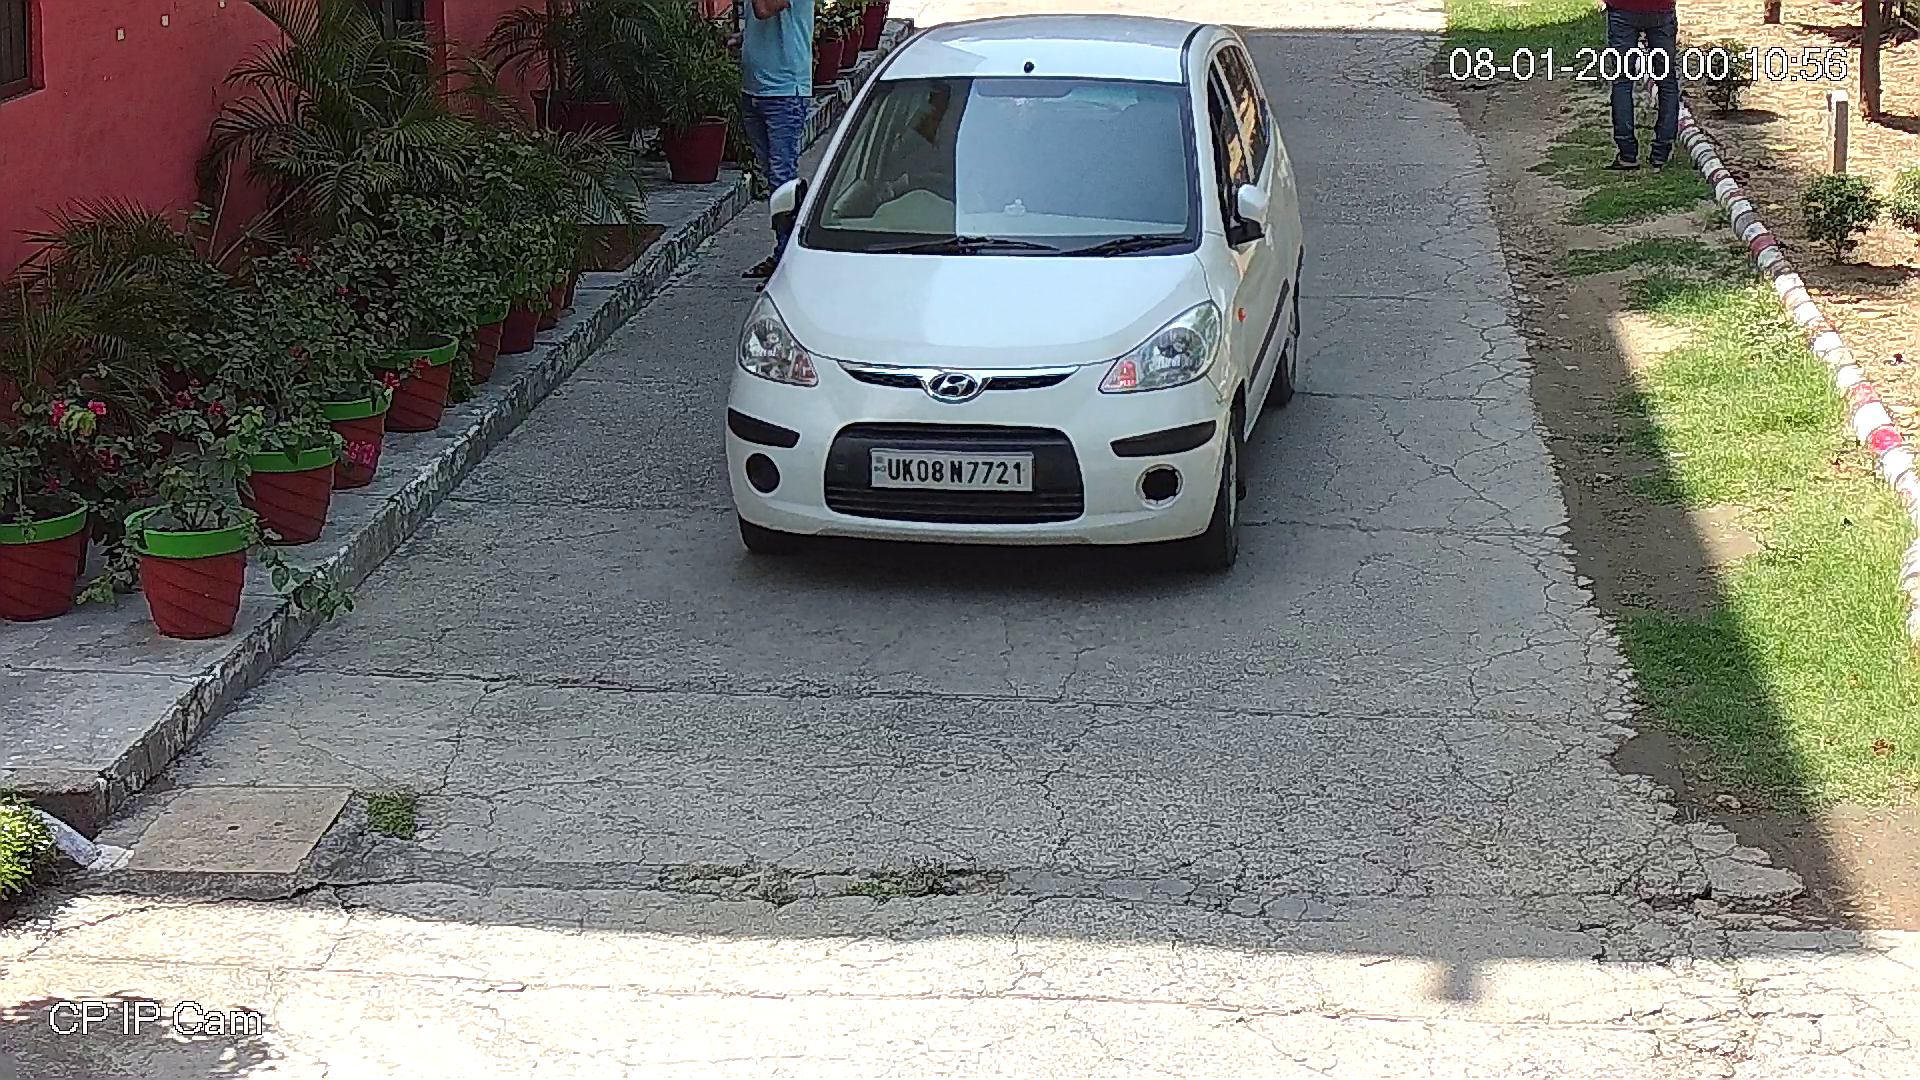plate: (877, 454, 1033, 489)
